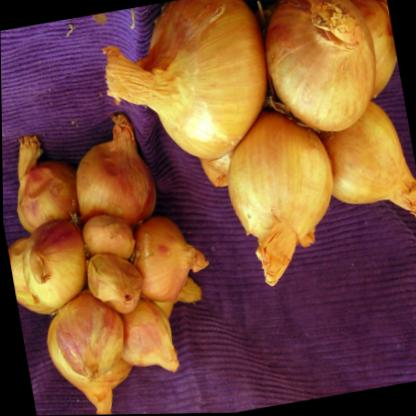onion: (95, 0, 289, 174), (186, 103, 356, 290), (238, 0, 396, 155), (25, 273, 150, 408), (113, 197, 212, 314)
